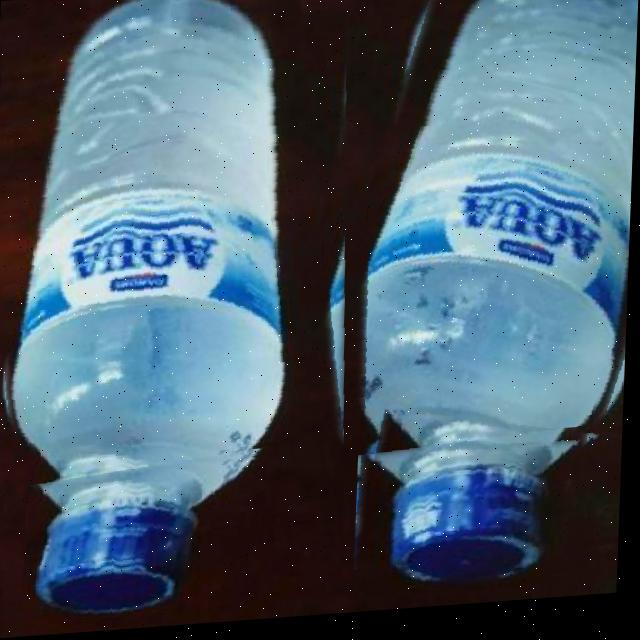plasticbottle: (0, 0, 365, 640), (278, 0, 640, 622)
plasticbottlecap: (25, 450, 271, 634), (357, 434, 595, 604)
